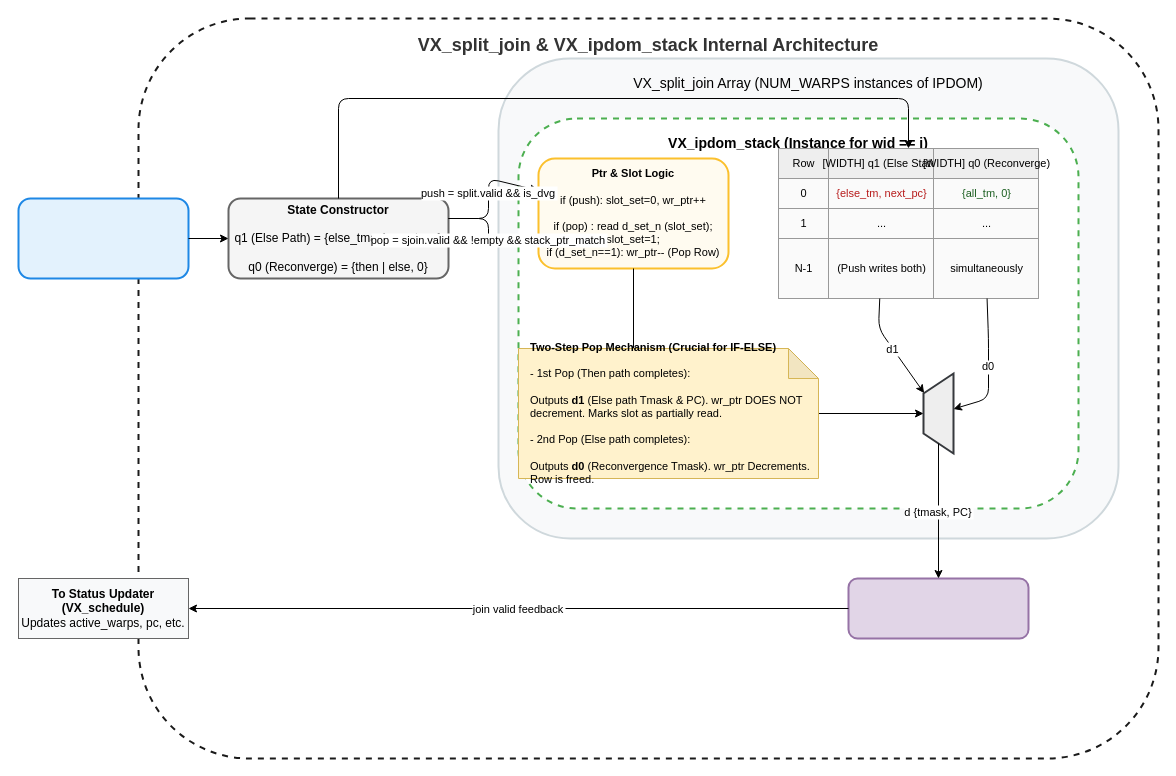
Image size: 1176x776. Some labels were removed from this diagram. Each missing label, with the centre of its shape:
"MUX" goes at (938,413).
"VX_pipe_register (join_wid, tmask, pc, dvg)" goes at (938,608).
"warp_ctl_if.split / .join (valid, wid, is_dvg, then_tmask, else_tmask, next_pc)" goes at (103,238).
